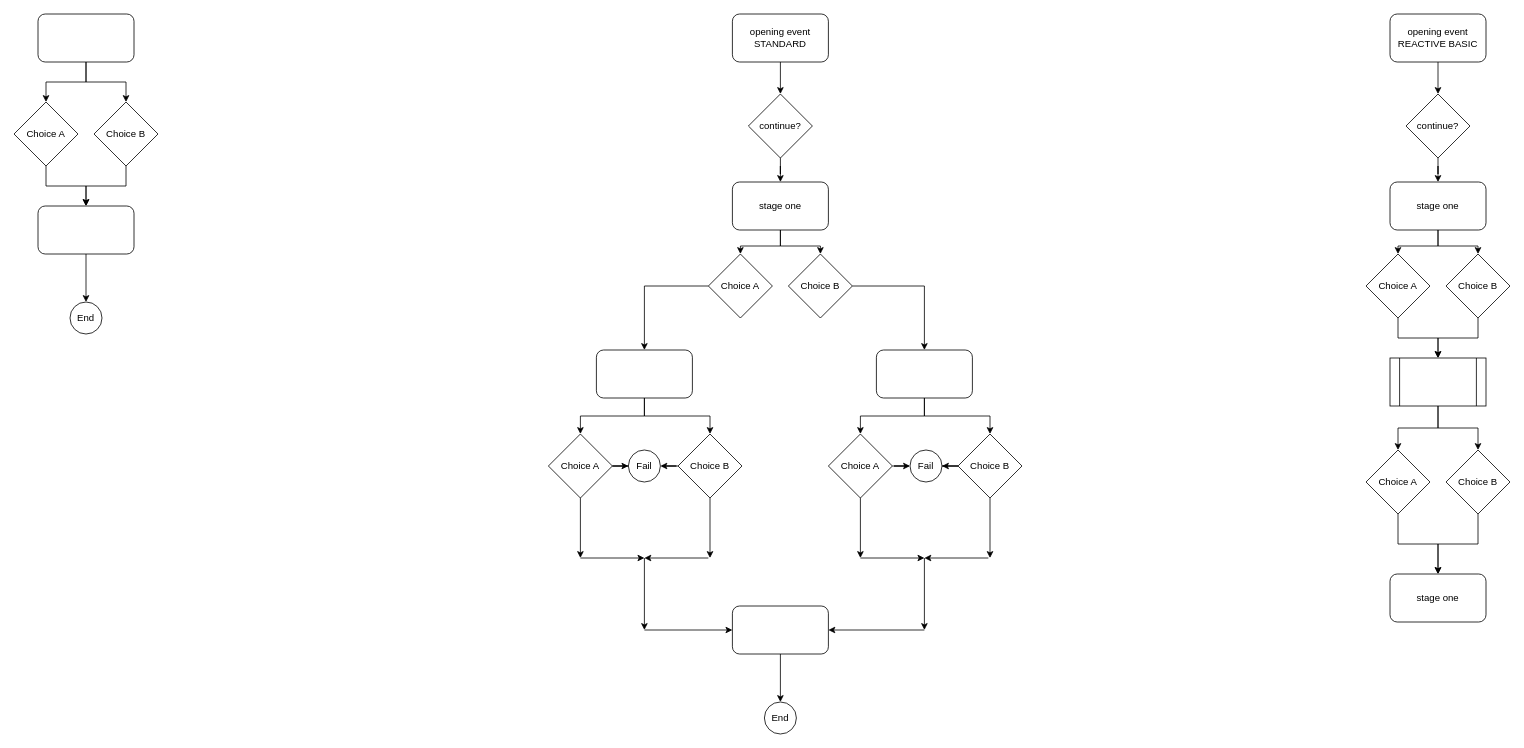
Some shapes in this 1524 by 748 pixel diagram are drawn without their labels. Here are the shapes that lost their labels. From the top down, the centre of each, then its label:
At point 85,37: "opening event BASIC".
At point 85,229: "Final Stage".
At point 644,373: "Stage 1/2 A".
At point 924,373: "Stage 1/2 B".
At point 1437,381: "Target gets event".
At point 780,629: "stage two".
